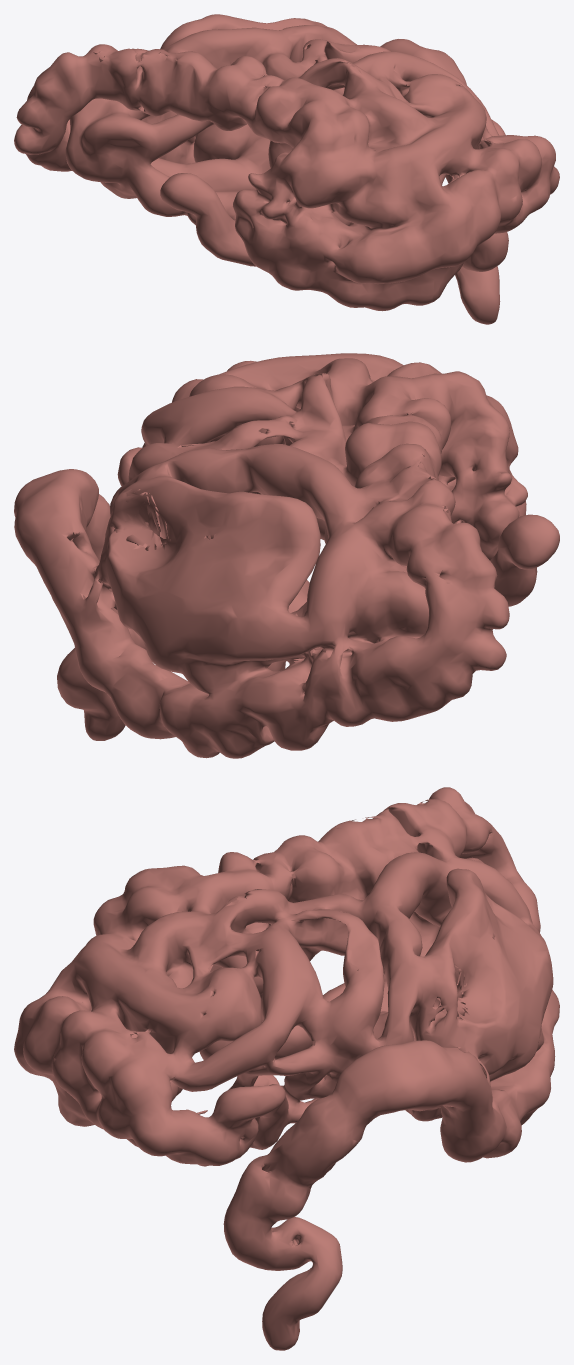
Rendered from Colon.obj.
3 views of the same model, one above another, from view 1: azimuth 30°, elevation 25°; view 2: azimuth 150°, elevation 25°; view 3: azimuth 270°, elevation 25° (orthographic). The views are drawn at different scales.
Parts seen in each view (by area): view 1: Colon; view 2: Colon; view 3: Colon.
Boxes of the visible parts, <box> form: Colon: <box>14,14,559,324</box>; Colon: <box>14,353,559,758</box>; Colon: <box>14,787,559,1350</box>.
Size of the model in its own units: 10.66 by 7.74 by 10.32.
